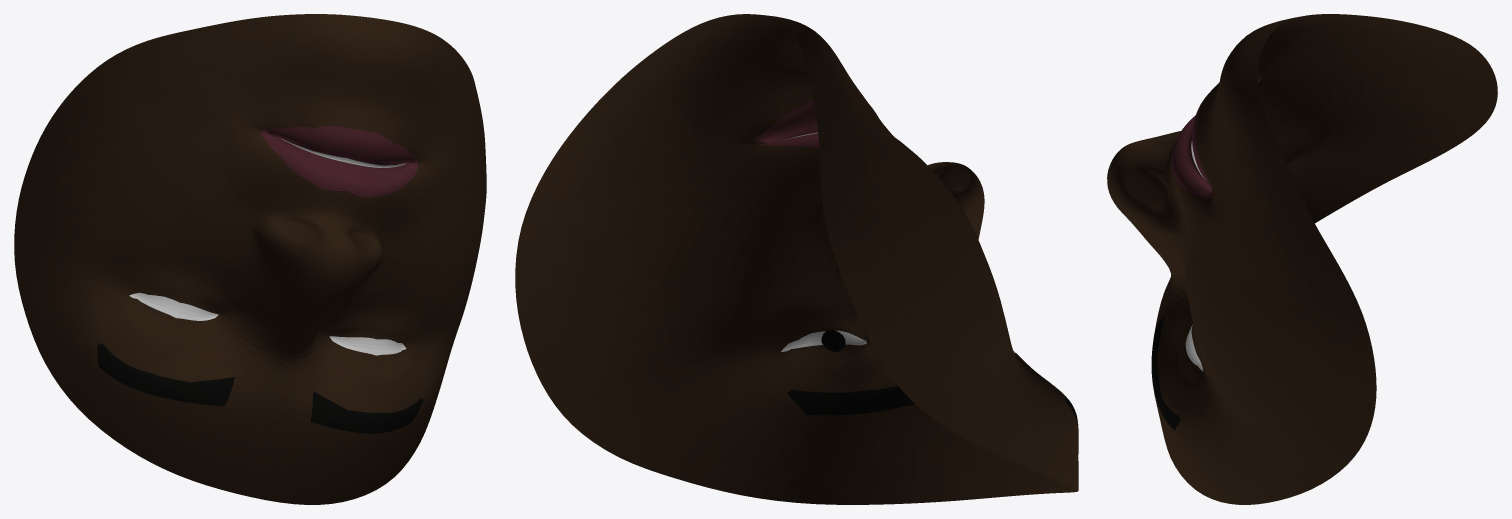
File: frame_00241.obj
3 views of the same model, side by side, from view 1: azimuth 30°, elevation 25°; view 2: azimuth 150°, elevation 25°; view 3: azimuth 270°, elevation 25° (orthographic). The views are drawn at different scales.
Visible parts, largest first — view 1: face_mesh_subdivided; view 2: face_mesh_subdivided; view 3: face_mesh_subdivided.
Boxes of the visible parts, bbox=[...] form: face_mesh_subdivided: bbox=[14, 14, 486, 504]; face_mesh_subdivided: bbox=[515, 14, 1078, 504]; face_mesh_subdivided: bbox=[1107, 14, 1497, 504].
Bounding box in the file's own units: 0.548 × 0.5252 × 0.4072.
